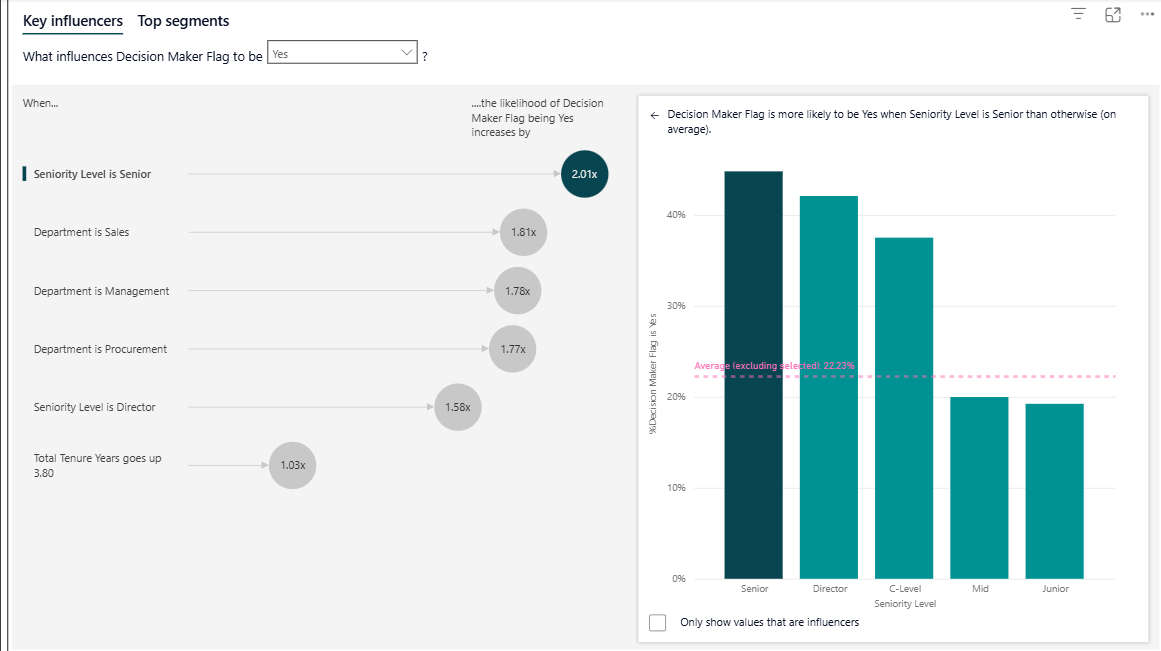

Layout of this report page (visuals, bound fields, positions):
{"tool":"powerbi","page":{"name":"Decision Maker Key Influencer","canvas":[1280,720],"ordinal":1},"visuals":[{"type":"keyDriversVisual","fields":{"Target":["Employees.Decision Maker Flag"],"ExplainBy":["Employees.Department","Employees.Education Level","Employees.Seniority Level","Employees.Work Location","Calender.Tenure Years","Employees.Newsletter Subscription"]},"box":[6.2,0,1270.1,720],"z":0}]}

Visuals, with their boxes in screenshot pixels (x1, y1, x2, y2), scaled from the page's 1280x720 canvas onto the 1161x651 screenshot:
keyDriversVisual - Employees.Decision Maker Flag x Employees.Department: {"x1": 6, "y1": 0, "x2": 1158, "y2": 650}
